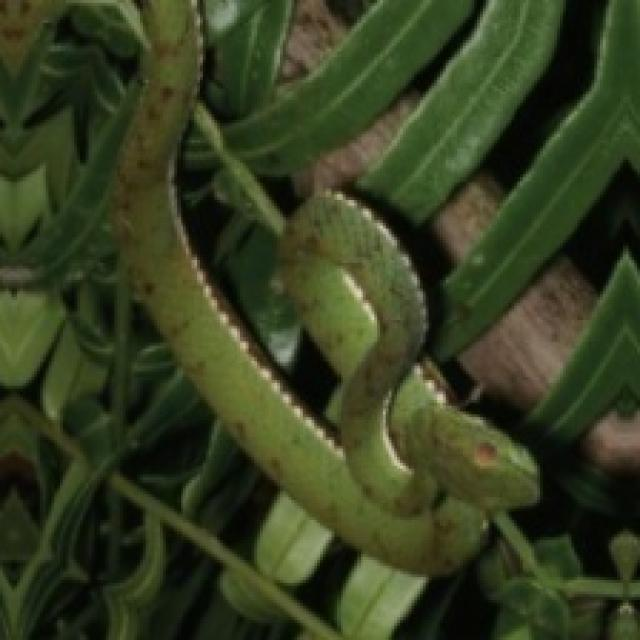philippine pitviper: (117, 0, 534, 571)
